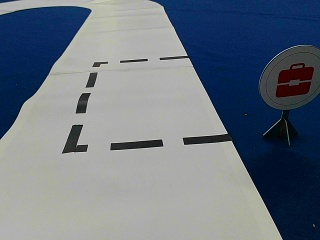company: (259, 44, 318, 108)
